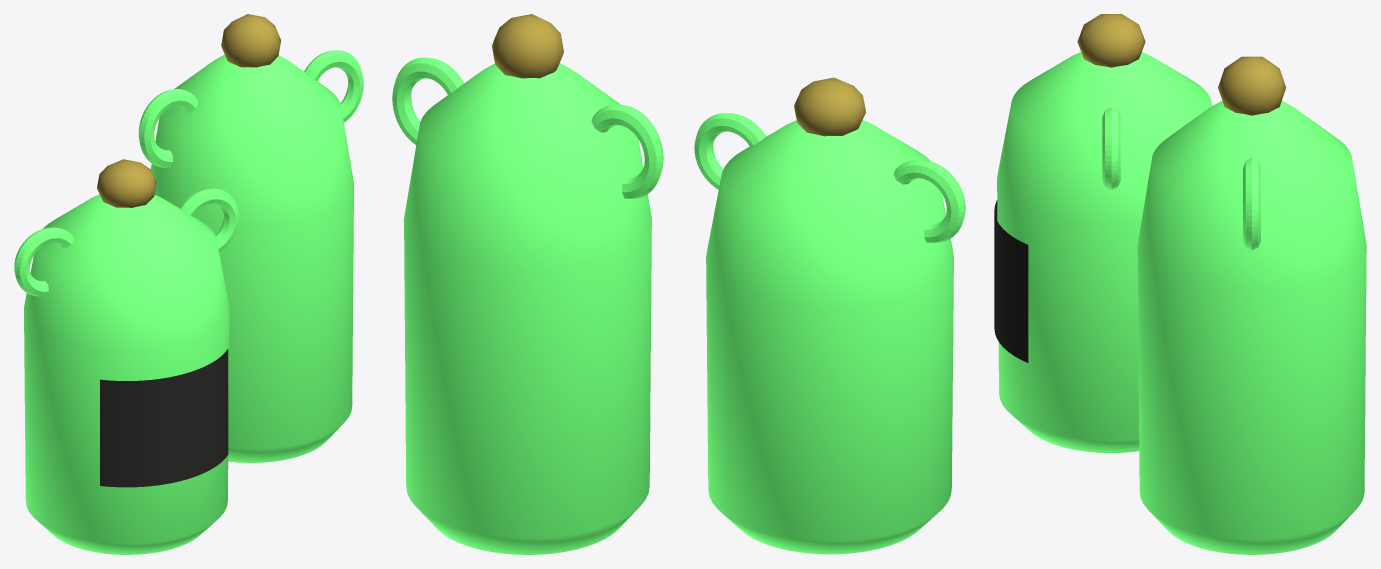
3 renders of one model, left to right at view 1: azimuth 30°, elevation 25°; view 2: azimuth 150°, elevation 25°; view 3: azimuth 270°, elevation 25°, orthographic. The views are drawn at different scales.
Parts seen in each view (by area): view 1: TI006 / bulbous urn.001, TI006 / bulbous urn, TI006 / front urn label, TI006 / urn stopper.001, TI006 / urn stopper, TI006 / loop handle.002, TI006 / loop handle, TI006 / loop handle.003, TI006 / loop handle.001; view 2: TI006 / bulbous urn.001, TI006 / bulbous urn, TI006 / urn stopper.001, TI006 / urn stopper, TI006 / loop handle.002, TI006 / loop handle, TI006 / loop handle.003, TI006 / loop handle.001; view 3: TI006 / bulbous urn.001, TI006 / bulbous urn, TI006 / front urn label, TI006 / urn stopper.001, TI006 / urn stopper, TI006 / loop handle.003, TI006 / loop handle.001.
Part boxes in pixels (bbox=[...]): TI006 / bulbous urn.001: bbox=[150, 54, 353, 462]; TI006 / bulbous urn: bbox=[24, 194, 229, 554]; TI006 / front urn label: bbox=[100, 349, 228, 487]; TI006 / urn stopper.001: bbox=[221, 14, 280, 67]; TI006 / urn stopper: bbox=[97, 159, 156, 207]; TI006 / loop handle.002: bbox=[138, 89, 198, 167]; TI006 / loop handle: bbox=[14, 227, 73, 296]; TI006 / loop handle.003: bbox=[304, 50, 363, 122]; TI006 / loop handle.001: bbox=[179, 188, 239, 252]; TI006 / bulbous urn.001: bbox=[404, 63, 651, 554]; TI006 / bulbous urn: bbox=[706, 120, 953, 554]; TI006 / urn stopper.001: bbox=[492, 14, 563, 78]; TI006 / urn stopper: bbox=[794, 77, 865, 136]; TI006 / loop handle.002: bbox=[591, 104, 663, 198]; TI006 / loop handle: bbox=[893, 160, 965, 242]; TI006 / loop handle.003: bbox=[392, 57, 463, 144]; TI006 / loop handle.001: bbox=[694, 113, 766, 189]; TI006 / bulbous urn.001: bbox=[1137, 101, 1366, 554]; TI006 / bulbous urn: bbox=[997, 52, 1211, 452]; TI006 / front urn label: bbox=[994, 200, 1028, 362]; TI006 / urn stopper.001: bbox=[1218, 56, 1286, 115]; TI006 / urn stopper: bbox=[1077, 14, 1145, 67]; TI006 / loop handle.003: bbox=[1243, 158, 1260, 250]; TI006 / loop handle.001: bbox=[1102, 107, 1120, 189].
Bounding box in the file's own units: 2.63 × 2.52 × 1.85.
